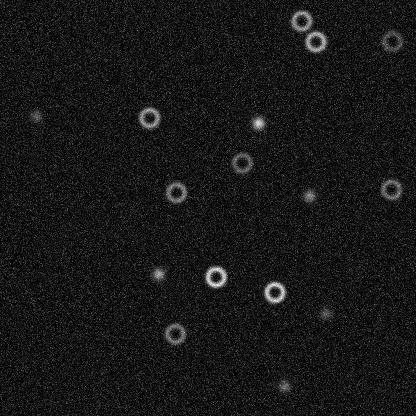Ring: (164, 180, 188, 204), (289, 8, 313, 32), (203, 264, 227, 288), (303, 29, 327, 53), (137, 105, 161, 129), (379, 29, 403, 53), (229, 150, 253, 174), (379, 177, 403, 201), (162, 321, 186, 345), (262, 280, 286, 304)
Spot: (276, 378, 292, 394), (317, 305, 333, 321), (27, 107, 43, 123), (150, 265, 166, 281), (250, 114, 266, 130), (301, 187, 317, 203)
